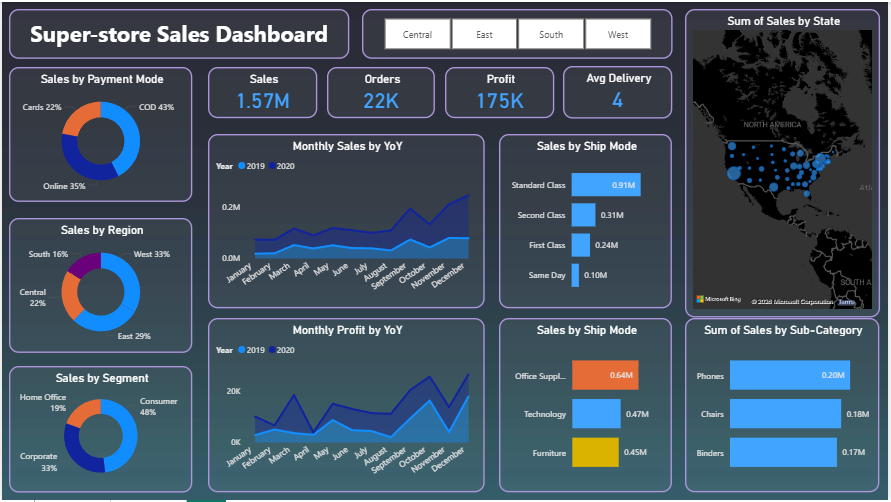

This screenshot's page, from the dashboard's own definition file:
{"tool":"powerbi","page":{"name":"Page 1","canvas":[1280,720],"ordinal":0},"visuals":[{"type":"textbox","box":[10.1,10.1,492.2,72.2],"z":0},{"type":"donutChart","title":"Sales by Payment Mode","fields":{"Category":["SuperStore_Sales_Dataset.Payment Mode"],"Y":["Sum(SuperStore_Sales_Dataset.Sales)"]},"box":[10.1,94.1,265.4,194.9],"z":1000},{"type":"donutChart","title":"Sales by Region","fields":{"Category":["SuperStore_Sales_Dataset.Region"],"Y":["Sum(SuperStore_Sales_Dataset.Sales)"]},"box":[10.1,312.4,265.4,194.9],"z":2000},{"type":"donutChart","title":"Sales by Segment","fields":{"Y":["Sum(SuperStore_Sales_Dataset.Sales)"],"Category":["SuperStore_Sales_Dataset.Segment"]},"box":[10.1,525.8,265.4,183.1],"z":3000},{"type":"slicer","fields":{"Values":["SuperStore_Sales_Dataset.Region"]},"box":[520.7,10.1,448.5,72.2],"z":4000},{"type":"card","title":"Sales","fields":{"Values":["Sum(SuperStore_Sales_Dataset.Sales)"]},"box":[297.3,94.1,157.9,73.9],"z":5000},{"type":"card","title":"Profit","fields":{"Values":["Sum(SuperStore_Sales_Dataset.Profit)"]},"box":[640,94.1,157.9,73.9],"z":6000},{"type":"card","title":"Orders","fields":{"Values":["Sum(SuperStore_Sales_Dataset.Quantity)"]},"box":[470.3,94.1,156.2,73.9],"z":7000},{"type":"card","title":"Avg Delivery","fields":{"Values":["Avg(SuperStore_Sales_Dataset.AvgDelivery)"]},"box":[811.3,92.4,157.9,75.6],"z":8000},{"type":"stackedAreaChart","title":"Monthly Sales by YoY","fields":{"Category":["SuperStore_Sales_Dataset.Order Date.Variation.Date Hierarchy.Month"],"Y":["Sum(SuperStore_Sales_Dataset.Sales)"],"Series":["SuperStore_Sales_Dataset.Order Date.Variation.Date Hierarchy.Year"]},"box":[297.3,191.5,399.8,252],"z":9000},{"type":"stackedAreaChart","title":"Monthly Profit by YoY","fields":{"Category":["SuperStore_Sales_Dataset.Order Date.Variation.Date Hierarchy.Month"],"Y":["Sum(SuperStore_Sales_Dataset.Profit)"],"Series":["SuperStore_Sales_Dataset.Order Date.Variation.Date Hierarchy.Year"]},"box":[297.3,456.9,399.8,252],"z":10000},{"type":"clusteredBarChart","title":"Sales by Ship Mode","fields":{"Y":["Sum(SuperStore_Sales_Dataset.Sales)"],"Category":["SuperStore_Sales_Dataset.Ship Mode"]},"box":[719,191.5,250.3,252],"z":11000},{"type":"clusteredBarChart","title":"Sales by Ship Mode","fields":{"Y":["Sum(SuperStore_Sales_Dataset.Sales)"],"Category":["SuperStore_Sales_Dataset.Category"]},"box":[719,456.9,250.3,252],"z":12000},{"type":"clusteredBarChart","fields":{"Y":["Sum(SuperStore_Sales_Dataset.Sales)"],"Category":["SuperStore_Sales_Dataset.Sub-Category"]},"box":[987.7,456.9,280.5,252],"z":13000},{"type":"map","fields":{"Category":["SuperStore_Sales_Dataset.State"],"Size":["Sum(SuperStore_Sales_Dataset.Sales)"]},"box":[987.5,10.1,281.9,446],"z":14000}]}

Visuals, with their boxes in screenshot pixels (x1, y1, x2, y2), scaled from the page's 1280x720 canvas onto the 891x502 screenshot:
textbox: [7, 7, 350, 57]
"Sales by Payment Mode" donutChart: [7, 66, 192, 201]
"Sales by Region" donutChart: [7, 218, 192, 354]
"Sales by Segment" donutChart: [7, 367, 192, 494]
slicer - SuperStore_Sales_Dataset.Region: [362, 7, 675, 57]
"Sales" card: [207, 66, 317, 117]
"Profit" card: [446, 66, 555, 117]
"Orders" card: [327, 66, 436, 117]
"Avg Delivery" card: [565, 64, 675, 117]
"Monthly Sales by YoY" stackedAreaChart: [207, 134, 485, 309]
"Monthly Profit by YoY" stackedAreaChart: [207, 319, 485, 494]
"Sales by Ship Mode" clusteredBarChart: [500, 134, 675, 309]
"Sales by Ship Mode" clusteredBarChart: [500, 319, 675, 494]
clusteredBarChart - Sum(SuperStore_Sales_Dataset.Sales) x SuperStore_Sales_Dataset.Sub-Category: [688, 319, 883, 494]
map - SuperStore_Sales_Dataset.State x Sum(SuperStore_Sales_Dataset.Sales): [687, 7, 884, 318]
